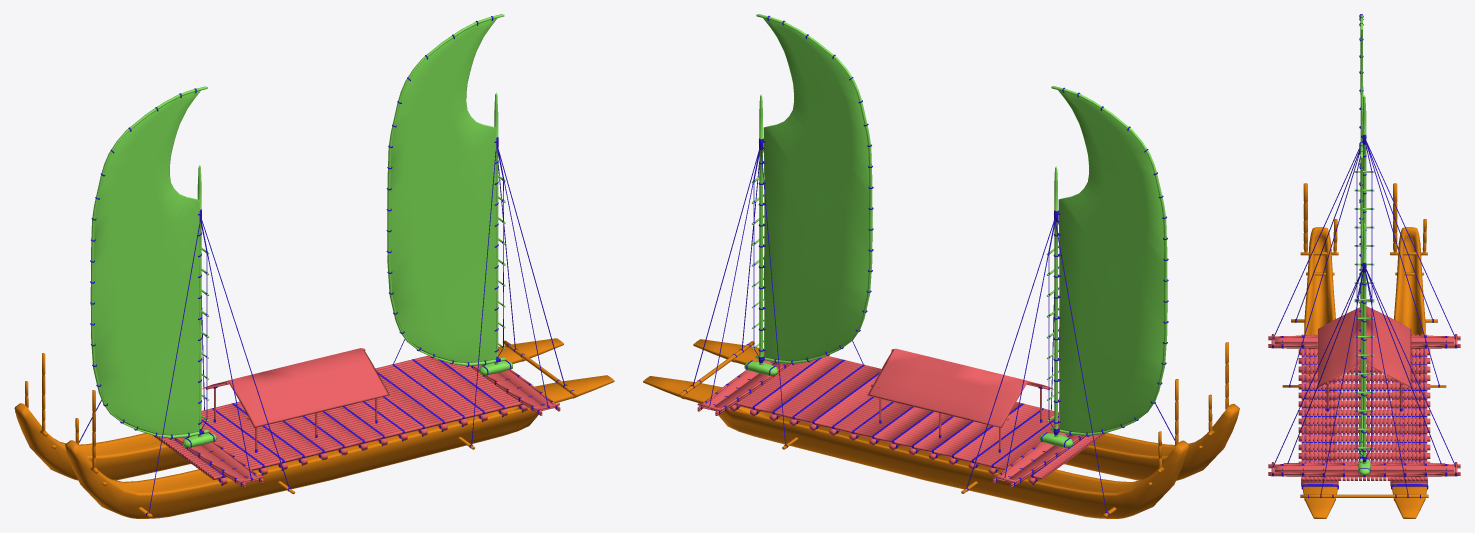
File: SM_Tipairua_Whole.fbx
The picture shows the model from 3 angles, left to right: view 1: azimuth 30°, elevation 25°; view 2: azimuth 150°, elevation 25°; view 3: azimuth 270°, elevation 25°; orthographic projection. The views are drawn at different scales.
Parts seen in each view (by area): view 1: SM_TIpairua_Desk; view 2: SM_TIpairua_Desk; view 3: SM_TIpairua_Desk.
Part boxes in pixels (x1=…): SM_TIpairua_Desk: x1=14, y1=14, x2=614, y2=518; SM_TIpairua_Desk: x1=643, y1=14, x2=1239, y2=518; SM_TIpairua_Desk: x1=1268, y1=14, x2=1460, y2=518.
Bounding box in the file's own units: 46.98 × 136 × 95.69.
